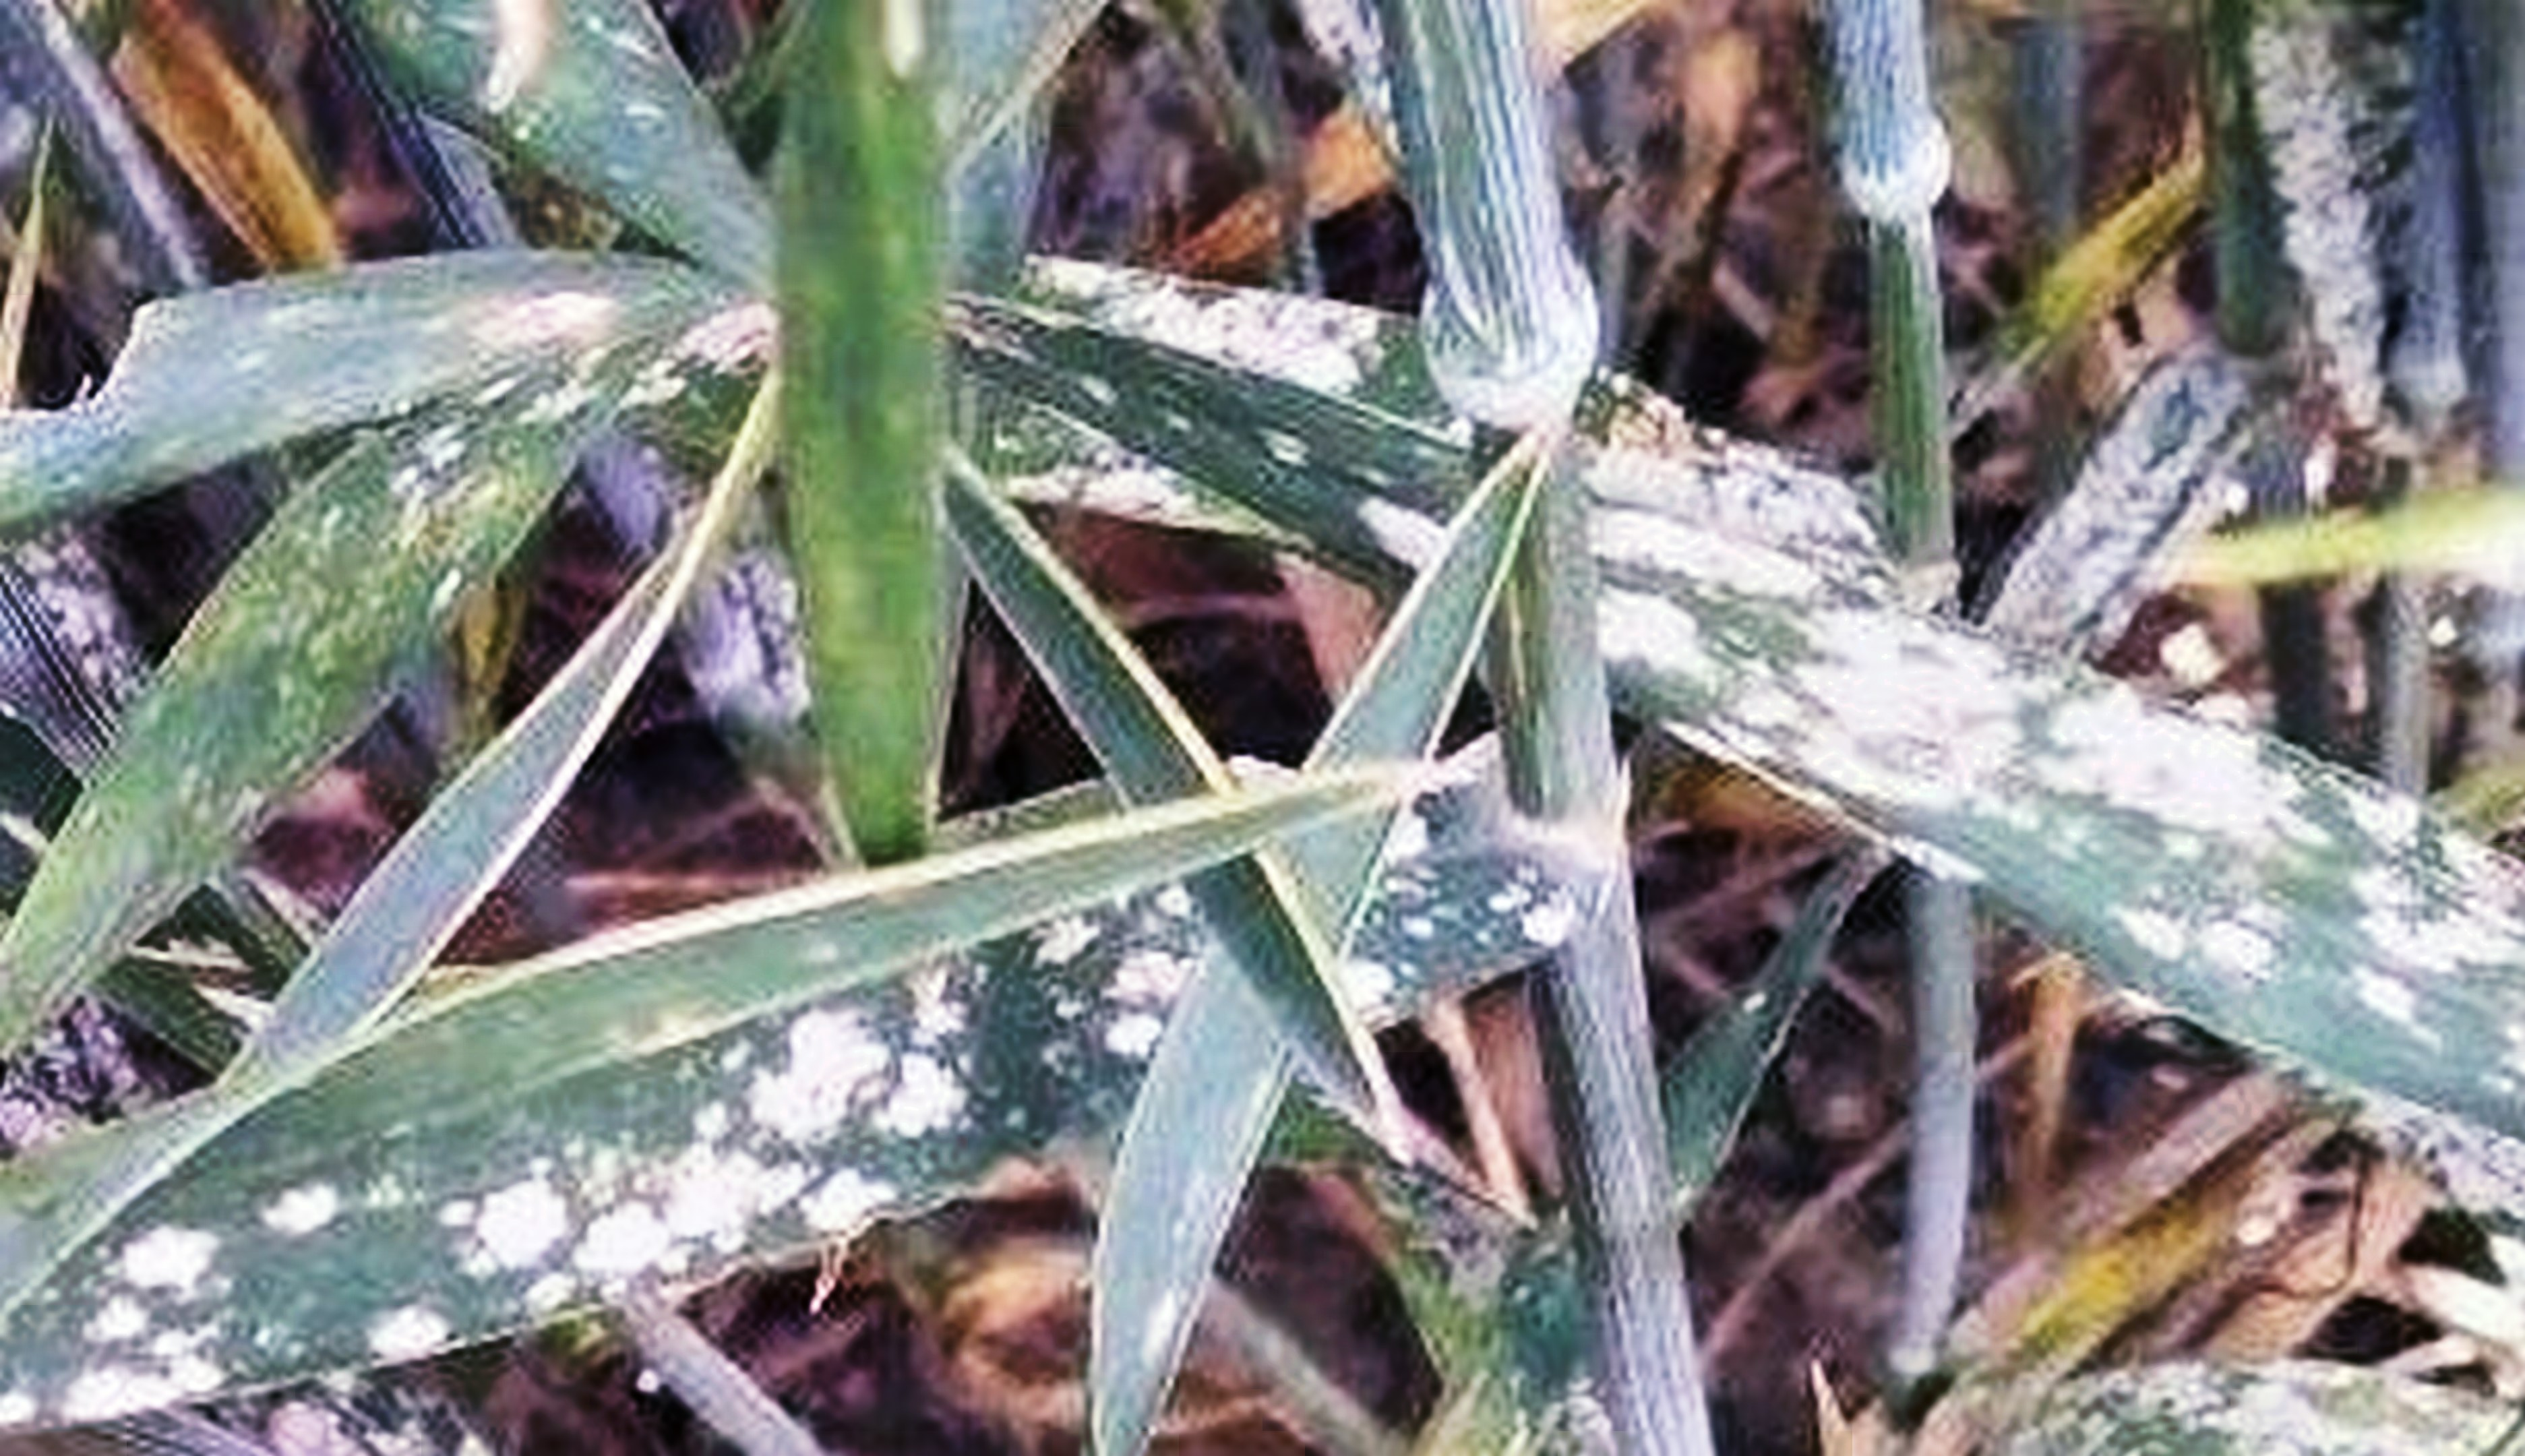Powdery Mildew: (137, 844, 1236, 1383)
